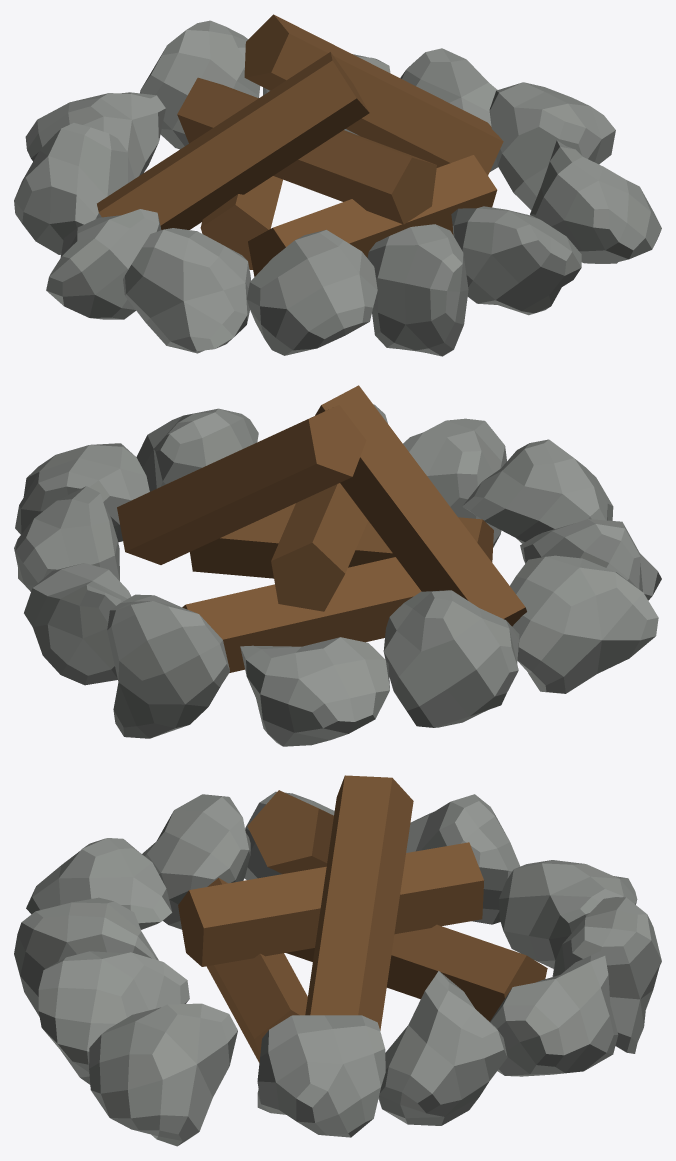
File: bonfire.glb
3 views of the same model, one above another, from view 1: azimuth 30°, elevation 25°; view 2: azimuth 150°, elevation 25°; view 3: azimuth 270°, elevation 25° (orthographic). The views are drawn at different scales.
Parts seen in each view (by area): view 1: Wood.003, Wood.002, Rock.009, Rock.008, Wood.004, Rock.003, Rock.007, Rock.006, Rock.010, Rock, Wood.001, Rock.001 (+4 smaller); view 2: Wood.002, Wood.003, Rock.001, Rock.010, Rock.002, Rock.011, Wood, Rock.008, Rock.004, Wood.004, Rock.005, Rock (+4 smaller); view 3: Wood.002, Wood.004, Rock.006, Rock, Rock.005, Rock.004, Rock.007, Rock.011, Wood, Rock.002, Rock.009, Rock.003 (+5 smaller).
Part boxes in pixels (x1,y1,x2,y2): Wood.003: [97, 52, 369, 229]; Wood.002: [244, 14, 503, 175]; Rock.009: [123, 228, 251, 353]; Rock.008: [247, 229, 377, 355]; Wood.004: [177, 77, 436, 224]; Rock.003: [367, 224, 468, 356]; Rock.007: [451, 206, 581, 315]; Rock.006: [530, 140, 661, 263]; Rock.010: [14, 123, 127, 254]; Rock: [489, 82, 615, 210]; Wood.001: [248, 155, 497, 276]; Rock.001: [46, 209, 161, 319]; Wood.002: [117, 404, 366, 564]; Wood.003: [315, 385, 526, 626]; Rock.001: [510, 555, 658, 693]; Rock.010: [383, 590, 519, 727]; Rock.002: [107, 594, 229, 738]; Rock.011: [240, 637, 389, 746]; Wood: [182, 557, 421, 672]; Rock.008: [462, 439, 613, 543]; Rock.004: [24, 563, 131, 685]; Wood.004: [271, 483, 367, 611]; Rock.005: [14, 486, 119, 591]; Rock: [15, 443, 149, 542]; Wood.002: [305, 775, 413, 1030]; Wood.004: [178, 842, 484, 966]; Rock.006: [89, 1003, 237, 1146]; Rock: [257, 1015, 385, 1137]; Rock.005: [378, 971, 507, 1125]; Rock.004: [490, 951, 618, 1076]; Rock.007: [38, 951, 189, 1084]; Rock.011: [499, 860, 637, 968]; Wood: [286, 924, 547, 1021]; Rock.002: [552, 897, 661, 1053]; Rock.009: [142, 794, 250, 929]; Rock.003: [14, 897, 158, 1016].
Bounding box in the file's own units: 0.9573 × 0.3676 × 0.8684.
